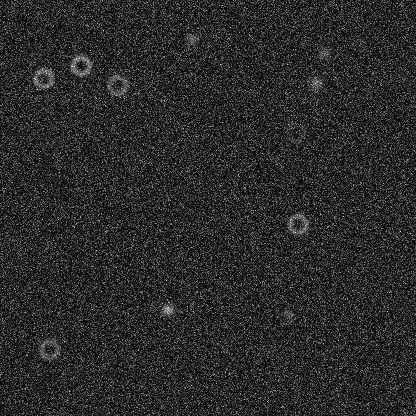Ring: (283, 120, 307, 144), (37, 337, 61, 361), (68, 53, 92, 77), (285, 212, 309, 236), (31, 66, 55, 90), (105, 73, 129, 97)
Spot: (124, 148, 140, 164), (184, 31, 200, 47), (280, 306, 296, 322), (159, 301, 175, 317), (308, 75, 324, 91), (316, 44, 332, 60)
